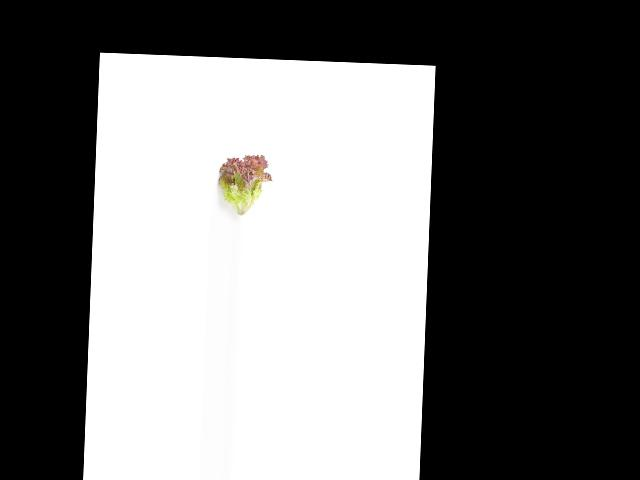lettuce: (215, 150, 271, 224)
